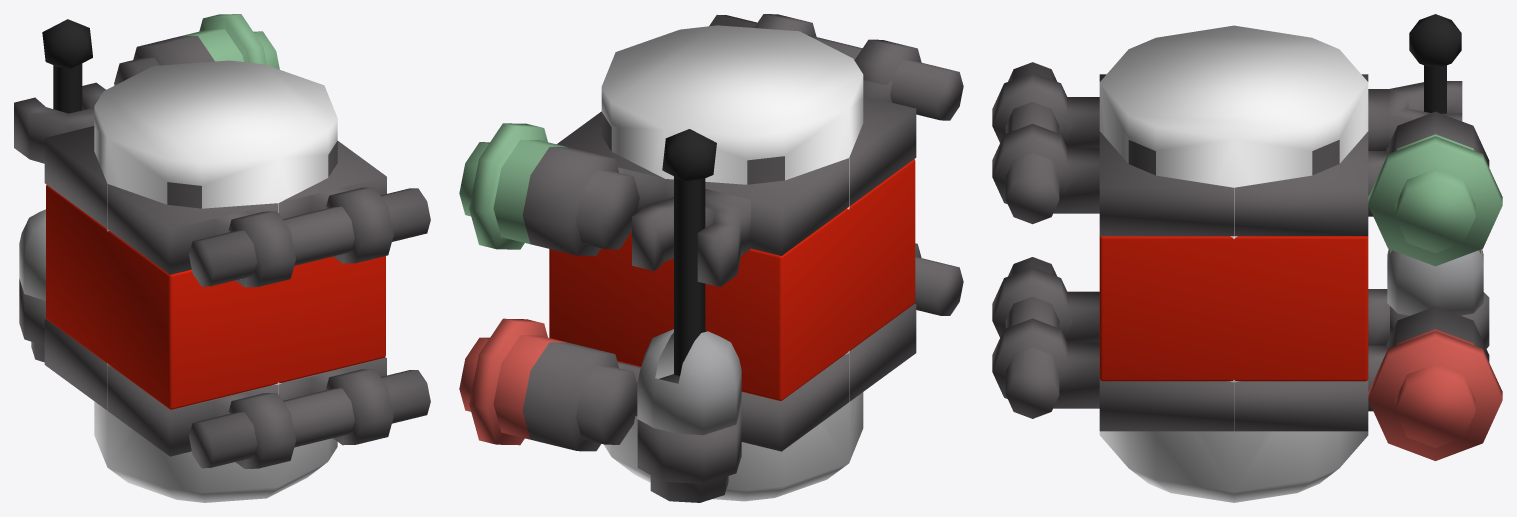
Rendered from Collectables.dae.
3 views of the same model, side by side, from view 1: azimuth 30°, elevation 25°; view 2: azimuth 150°, elevation 25°; view 3: azimuth 270°, elevation 25° (orthographic). The views are drawn at different scales.
Visible parts, largest first — view 1: Minikit, RedBrick; view 2: Minikit, RedBrick; view 3: Minikit, RedBrick.
Boxes of the visible parts, x1,y1,x2,y2 form: Minikit: (14, 14, 430, 502); RedBrick: (46, 185, 385, 409); Minikit: (459, 14, 963, 502); RedBrick: (549, 159, 915, 400); Minikit: (992, 14, 1502, 502); RedBrick: (1099, 236, 1368, 381).
Size of the model in its own units: 0.9198 by 1.52 by 1.41.
